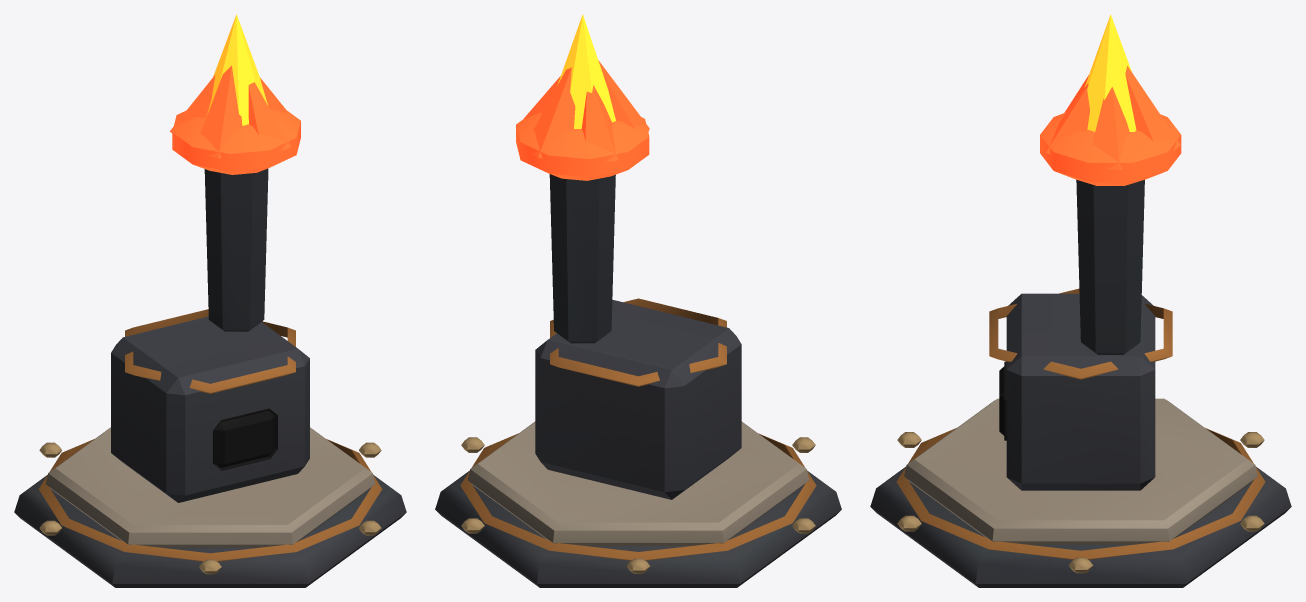
Rendered from nains_4.glb.
3 renders of one model, left to right at view 1: azimuth 30°, elevation 25°; view 2: azimuth 150°, elevation 25°; view 3: azimuth 270°, elevation 25°, orthographic. The views are drawn at different scales.
Visible parts, largest first — view 1: nains_4_peint, Flamme_lueur, FeuMilieu; view 2: nains_4_peint, Flamme_lueur, FeuMilieu; view 3: nains_4_peint, Flamme_lueur, FeuMilieu.
Part boxes in pixels (x1,y1,x2,y2): nains_4_peint: [14, 168, 406, 587]; Flamme_lueur: [170, 65, 300, 174]; FeuMilieu: [207, 14, 267, 125]; nains_4_peint: [435, 174, 841, 587]; Flamme_lueur: [516, 60, 649, 180]; FeuMilieu: [557, 14, 615, 128]; nains_4_peint: [870, 179, 1291, 587]; Flamme_lueur: [1040, 66, 1181, 185]; FeuMilieu: [1084, 14, 1136, 131].
Bounding box in the file's own units: 0.8433 × 1.16 × 0.8517.
